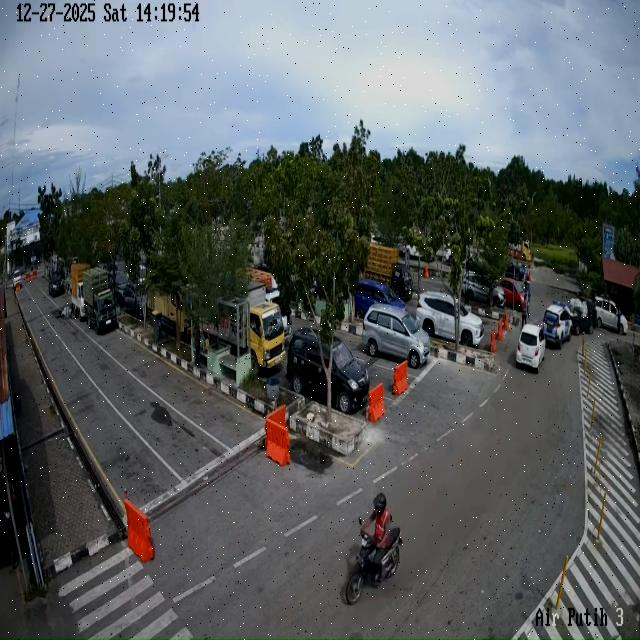Golongan IVA: (286, 327, 370, 414), (362, 304, 430, 369), (416, 291, 484, 347), (355, 279, 406, 320), (463, 272, 506, 308), (516, 323, 546, 373), (543, 304, 572, 348), (595, 296, 628, 334), (499, 277, 526, 312), (48, 272, 64, 298)
Golongan IVB: (364, 243, 413, 300), (83, 268, 117, 334), (70, 263, 90, 321), (568, 298, 596, 335)
Golongan VB: (202, 282, 286, 374)
